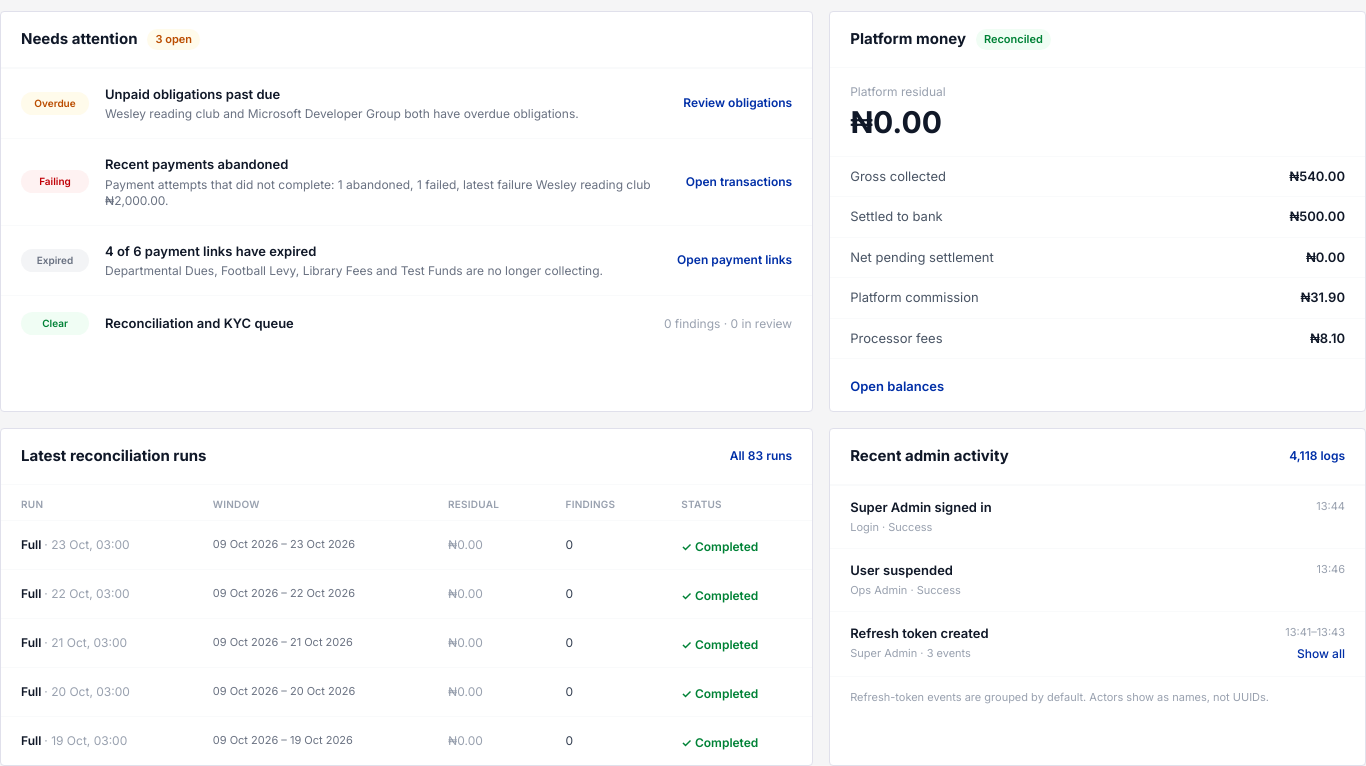
Test: OverviewSection › shows the runs table and groups token activity behind Show all
(page scrolled)
Expected: the link "All 83 runs" is shown, [730,448,792,464]
Expected: the link "4,118 logs" is shown, [1289,448,1345,464]
Click the button "Show all" at (1321, 654), box [1297,645,1345,663]
(page scrolled)
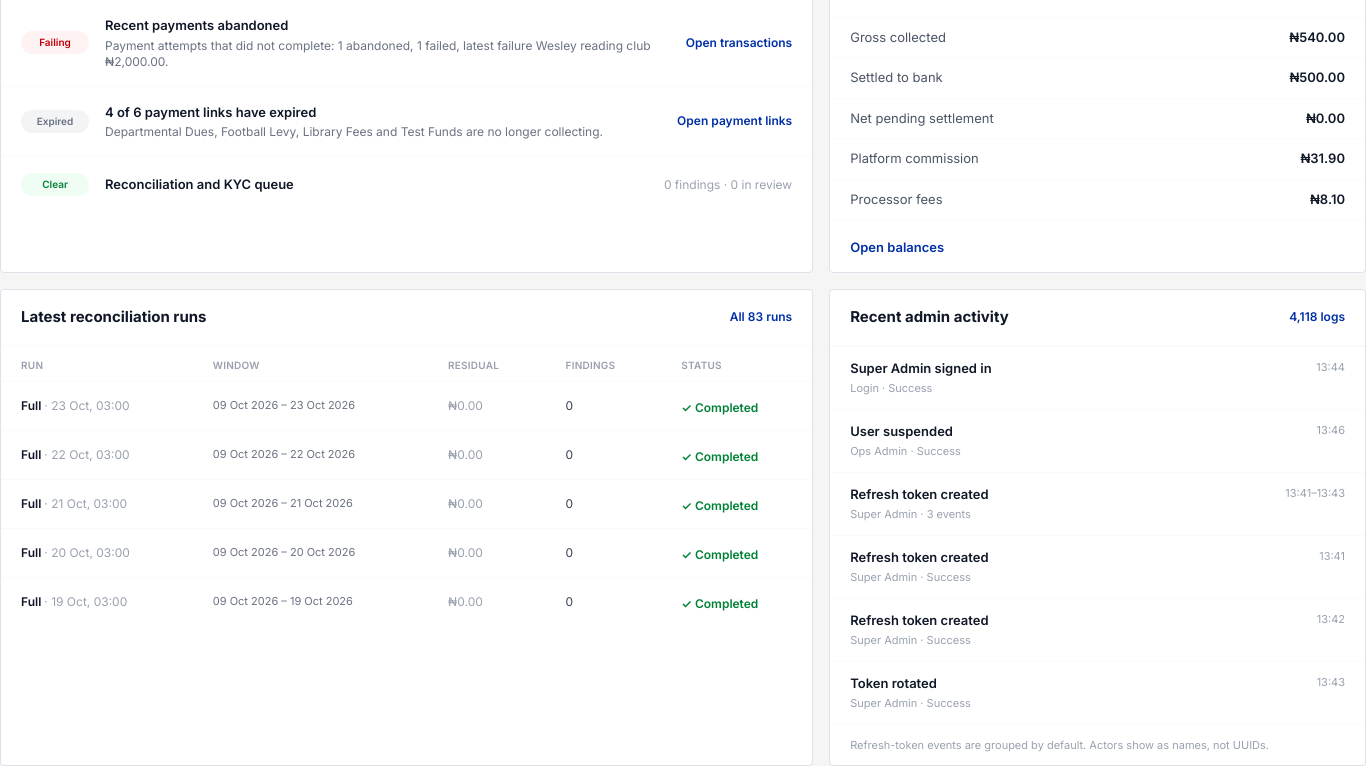
Expected: the text "Refresh token created" is shown 3 times, [850,484,989,504]; [850,548,989,567]; [850,610,989,630]
Expected: the text "Token rotated" is shown, [850,674,937,690]
Expected: the button "Show all" is gone
